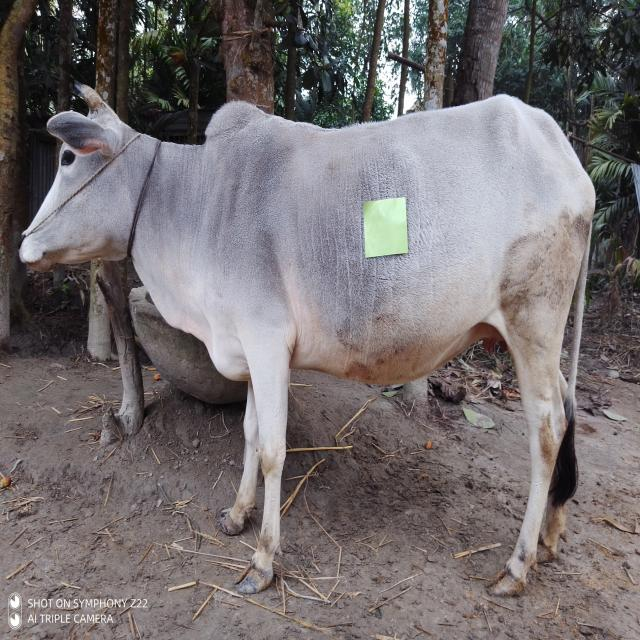badan_sapi: (249, 121, 576, 378)
sapi: (15, 71, 600, 602)
